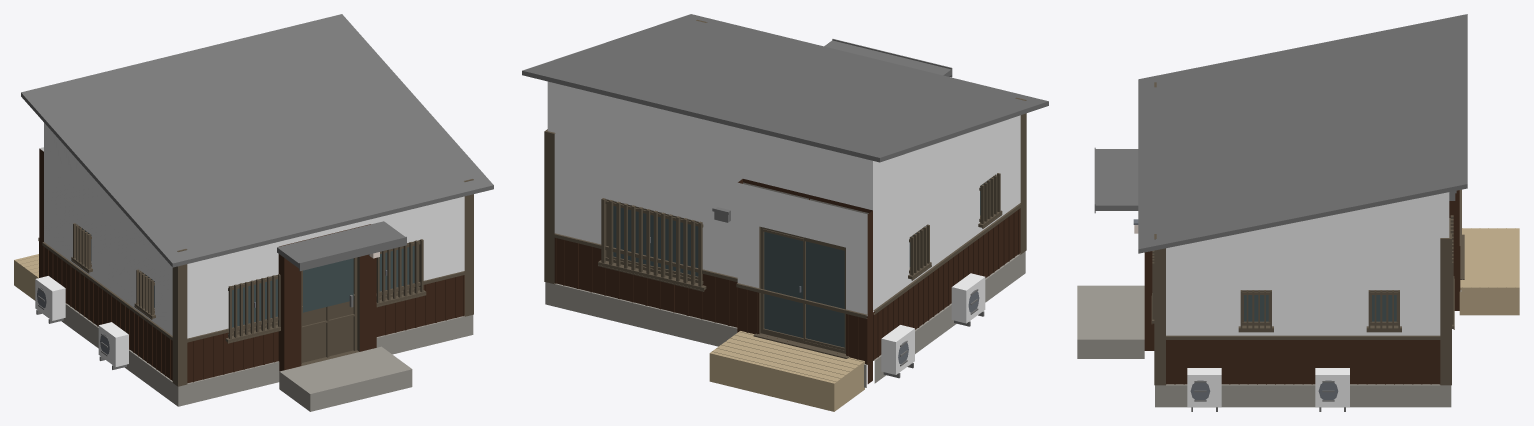
File: mashup-hut_japanese-top-prebuilt_close.fbx
The picture shows the model from 3 angles, left to right: view 1: azimuth 30°, elevation 25°; view 2: azimuth 150°, elevation 25°; view 3: azimuth 270°, elevation 25°; orthographic projection. The views are drawn at different scales.
Parts seen in each view (by area): view 1: a2015.hut_japanese.close; view 2: a2015.hut_japanese.close; view 3: a2015.hut_japanese.close.
Boxes of the visible parts, x1,y1,x2,y2 form: a2015.hut_japanese.close: (14,14,493,411); a2015.hut_japanese.close: (522,14,1048,411); a2015.hut_japanese.close: (1077,14,1519,411).
Bounding box in the file's own units: 6.64 × 4.22 × 7.25.
